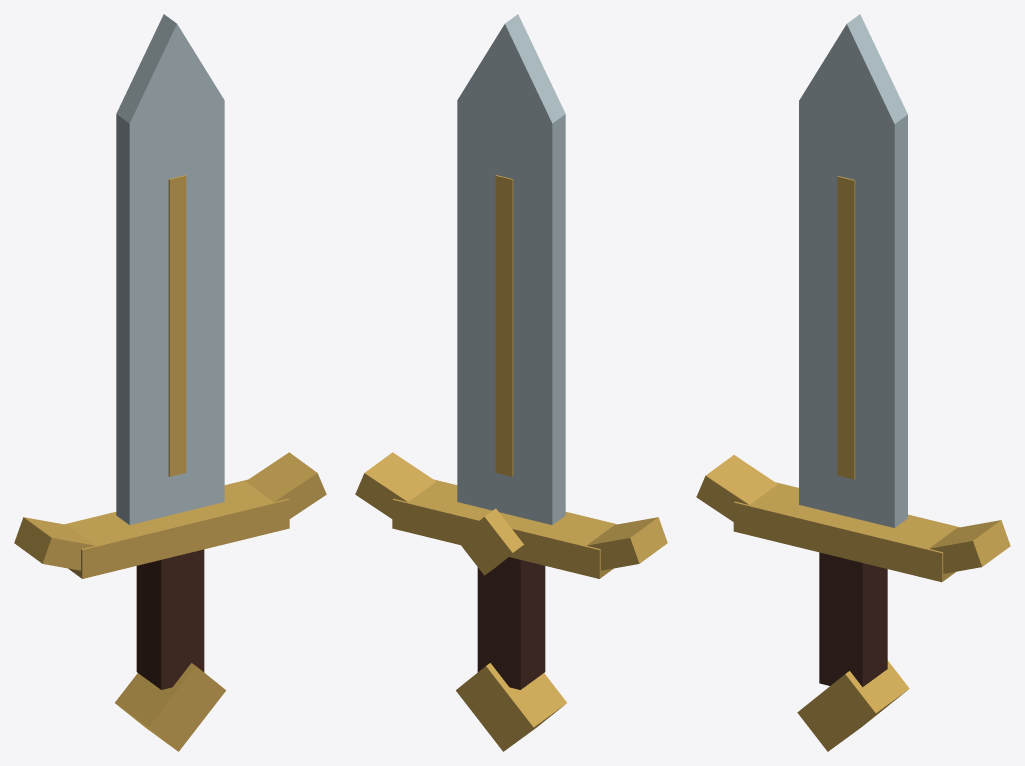
The model's file is knight_sword.glb.
3 views of the same model, side by side, from view 1: azimuth 30°, elevation 25°; view 2: azimuth 150°, elevation 25°; view 3: azimuth 330°, elevation 25° (orthographic).
Parts seen in each view (by area): view 1: knight_sword; view 2: knight_sword; view 3: knight_sword.
Boxes of the visible parts, bbox=[...] form: knight_sword: bbox=[14, 14, 326, 751]; knight_sword: bbox=[355, 14, 667, 751]; knight_sword: bbox=[696, 14, 1010, 751].
Size of the model in its own units: 1.85 by 4.47 by 0.495.
